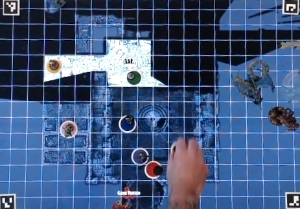blue: (115, 113, 138, 135)
green: (127, 69, 144, 85)
pink: (59, 119, 80, 139)
red: (144, 158, 163, 180)
violet: (129, 145, 148, 164)
yellow: (48, 56, 64, 73)
